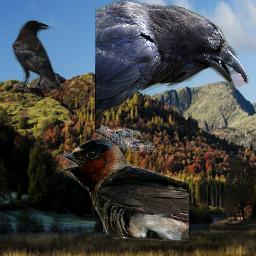Crow: (95, 0, 249, 152), (12, 20, 63, 93)
Swallow: (58, 138, 189, 241)
